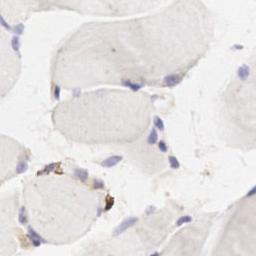nucleus: (112, 216, 139, 235), (29, 228, 48, 244), (123, 81, 147, 92), (101, 155, 122, 167), (18, 205, 29, 225), (237, 65, 251, 80), (163, 76, 183, 86), (73, 169, 88, 182), (176, 215, 192, 227), (11, 35, 21, 54), (25, 234, 40, 246), (169, 155, 180, 169), (40, 163, 57, 172), (155, 114, 164, 130), (17, 160, 27, 173), (148, 130, 157, 144), (93, 177, 104, 188), (1, 16, 10, 29), (13, 24, 24, 33), (159, 139, 167, 151), (73, 88, 83, 96), (54, 86, 60, 99), (249, 186, 256, 196), (96, 205, 101, 218), (145, 206, 157, 211), (151, 93, 157, 102), (150, 252, 160, 256), (233, 44, 243, 48)
positive_cell: (96, 192, 115, 219), (40, 162, 63, 175), (50, 81, 61, 101)
